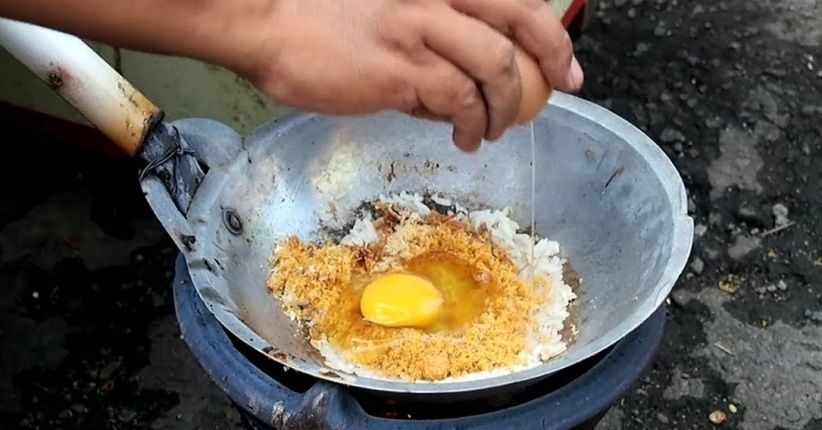kerak_telor: (294, 211, 550, 368)
